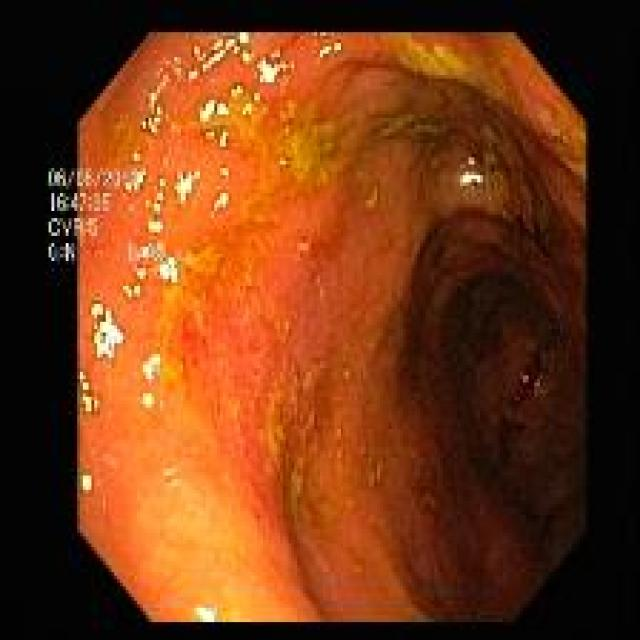ulcerative-colitis: (51, 33, 586, 622)
